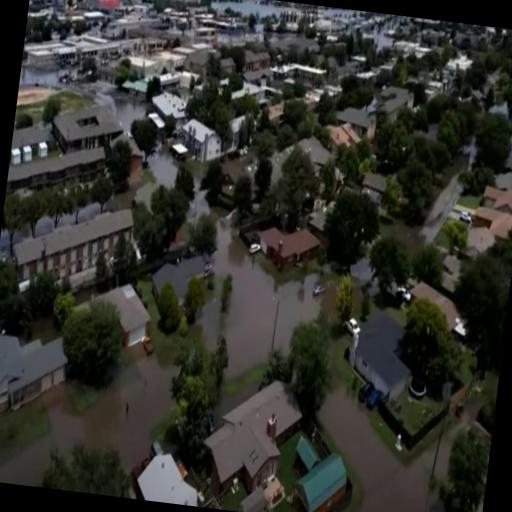flood: (0, 343, 174, 487), (198, 224, 321, 378), (318, 385, 437, 512), (80, 80, 149, 128), (153, 255, 207, 300), (147, 140, 181, 186), (19, 60, 76, 86), (437, 422, 454, 478), (186, 157, 207, 188)
house: (196, 369, 307, 512), (8, 192, 136, 304), (0, 314, 68, 433), (346, 308, 420, 410), (92, 278, 158, 362), (46, 97, 124, 163), (134, 443, 208, 507), (289, 441, 351, 512), (255, 222, 322, 272), (176, 115, 224, 170), (328, 118, 362, 156), (378, 83, 410, 119), (151, 90, 185, 122), (288, 61, 325, 86), (246, 48, 272, 74), (52, 38, 76, 66), (78, 38, 102, 62), (493, 185, 512, 215)
